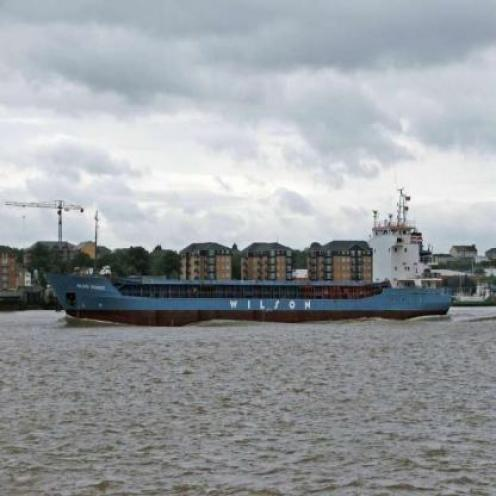Ship: (34, 262, 465, 330)
